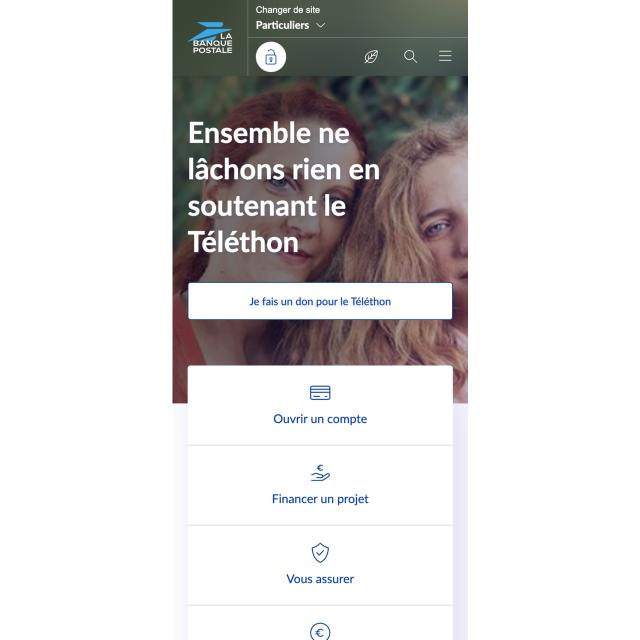logo: (189, 18, 236, 58)
navigation: (188, 367, 454, 605), (436, 47, 454, 63)
